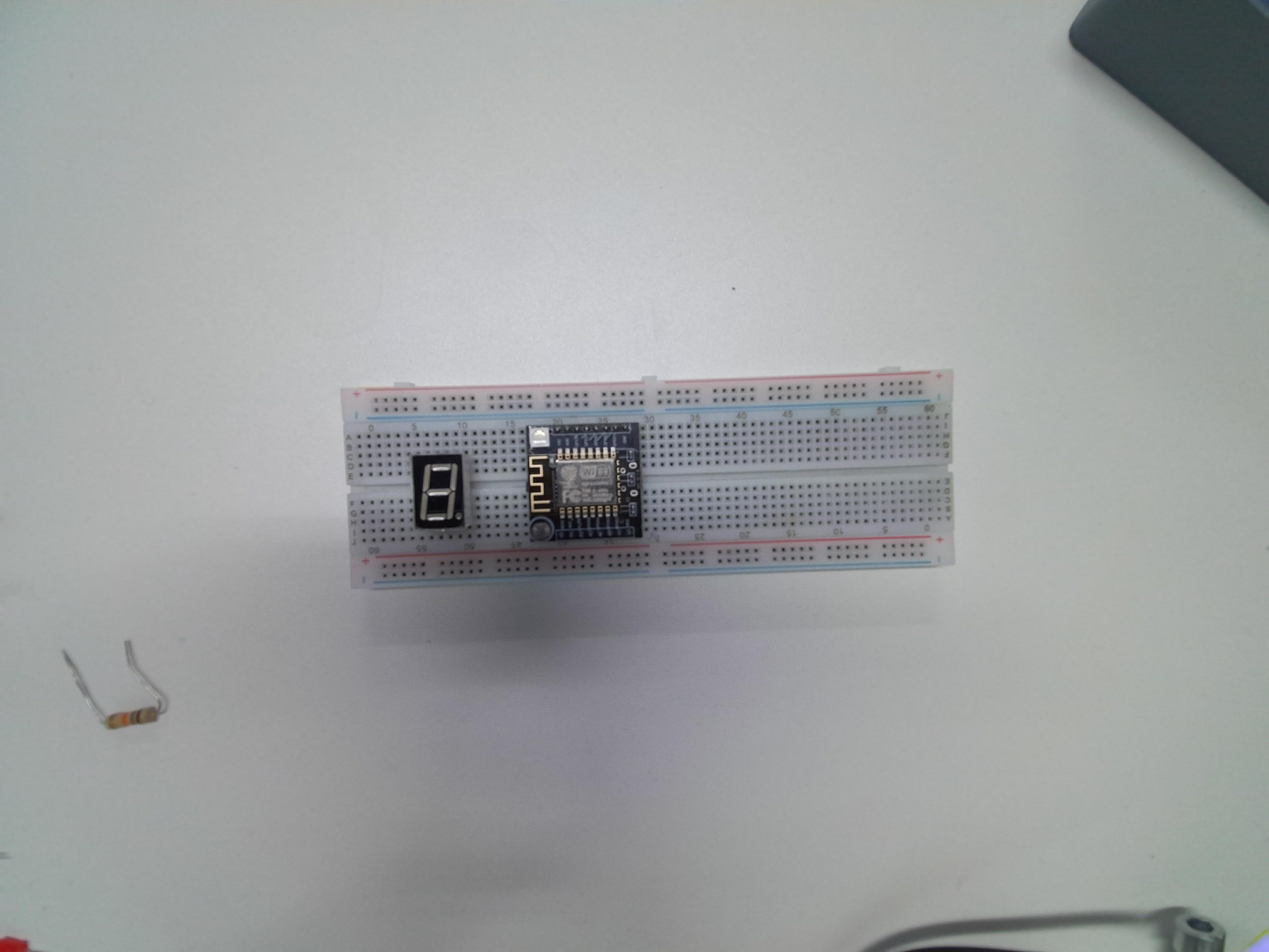base: (342, 369, 957, 592)
digit-board: (410, 451, 470, 530)
esp: (524, 422, 645, 545)
resistor-big: (105, 702, 163, 734)
